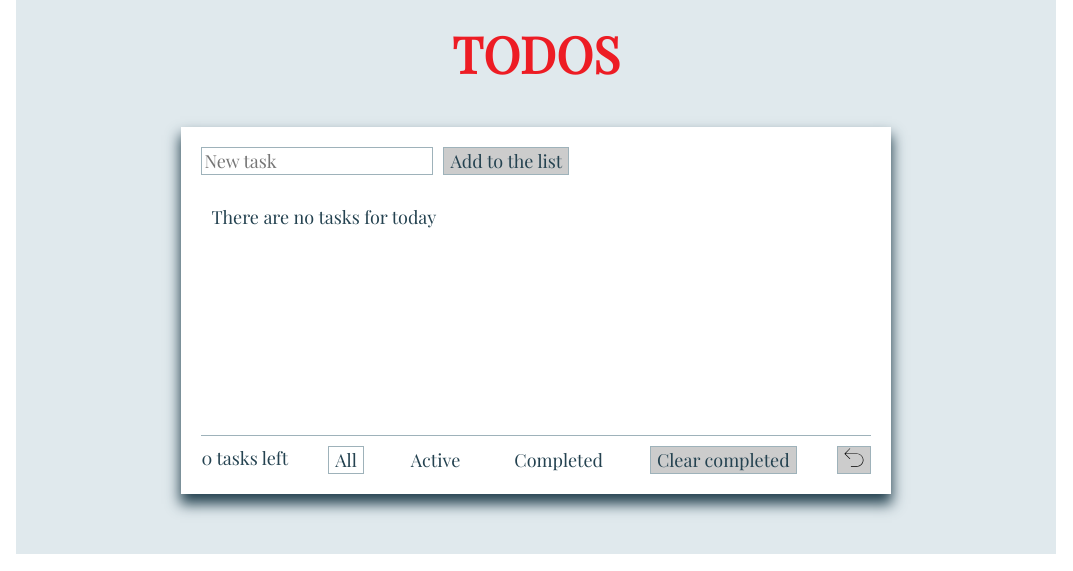
Test case: добавление задачи
In the field with placeholder "New task": (317, 161) x1=201 y1=147 x2=433 y2=175, type "Новая задача"
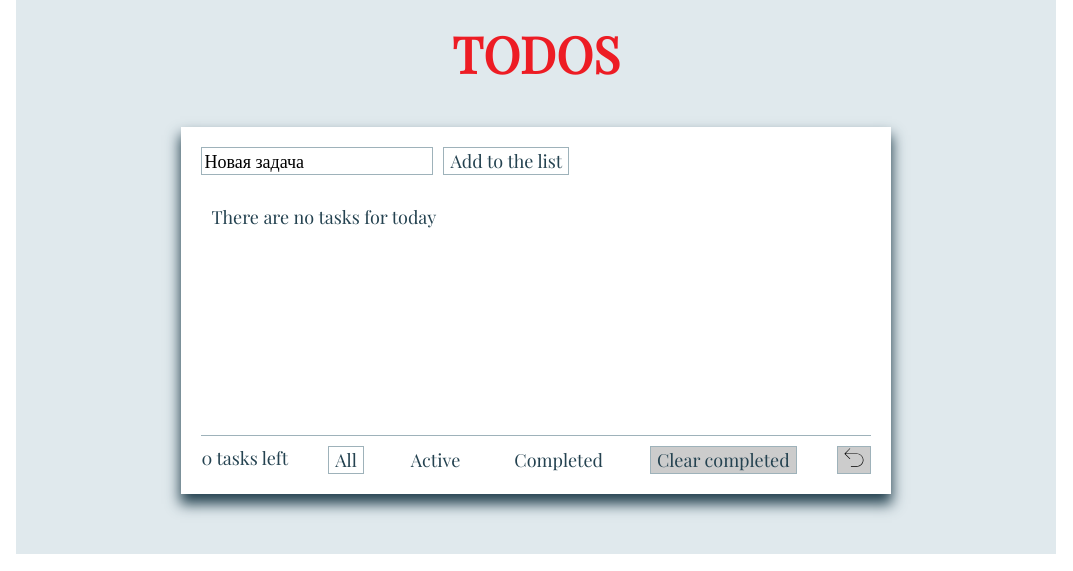
Click the button "Add to the list": (506, 161) x1=443 y1=147 x2=569 y2=175
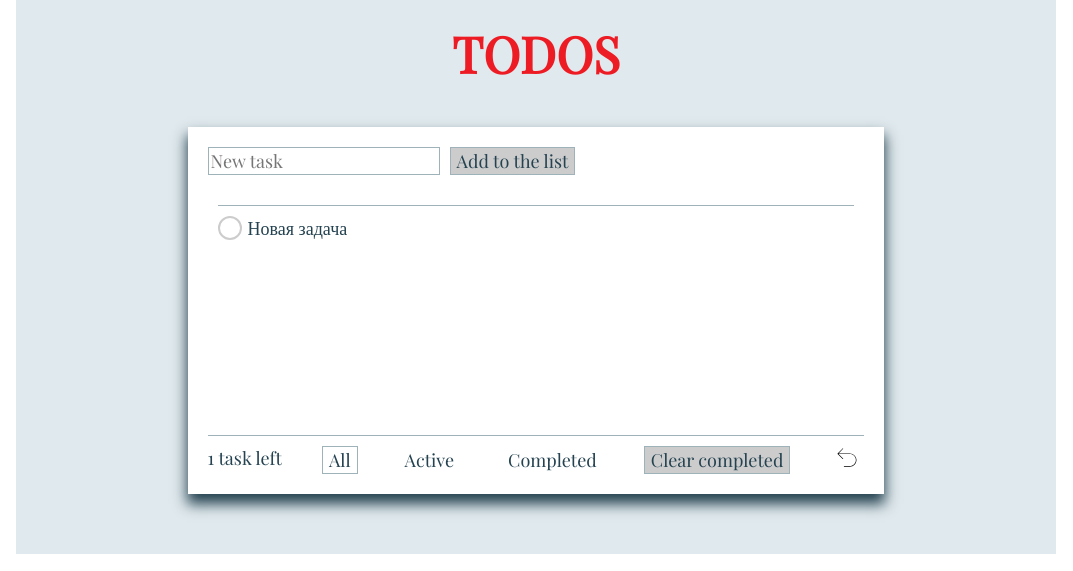
Expected: the checkbox "Новая задача" is shown, x1=248 y1=216 x2=347 y2=240
